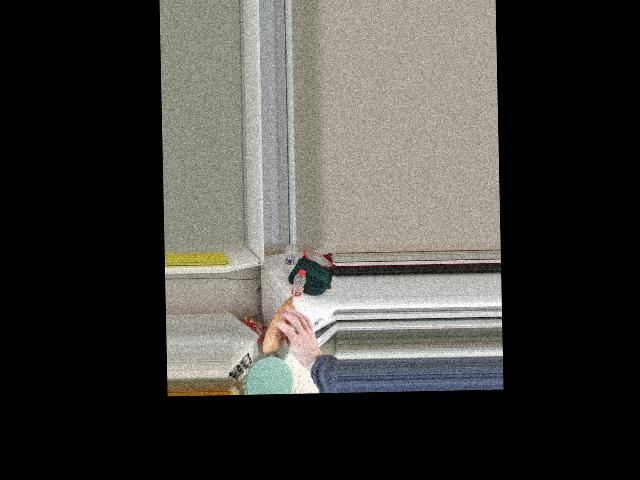sweet_potato: (263, 299, 304, 344)
